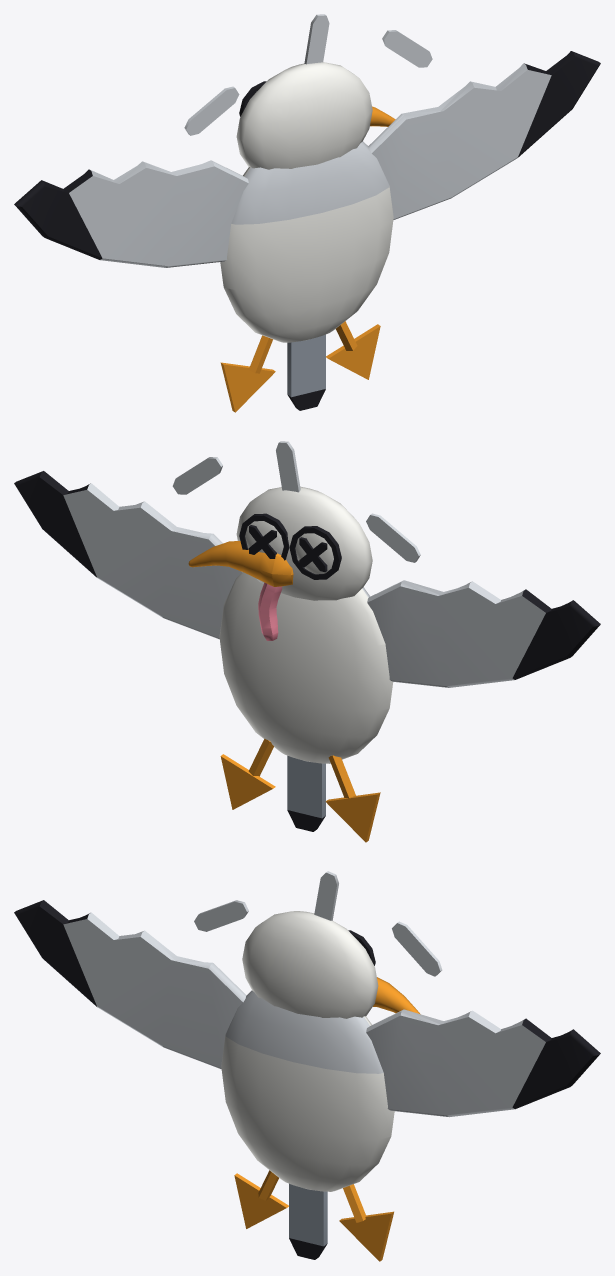
File: PajaroPlaf.fbx
The picture shows the model from 3 angles, top to bottom: view 1: azimuth 30°, elevation 25°; view 2: azimuth 150°, elevation 25°; view 3: azimuth 330°, elevation 25°; orthographic projection.
Parts seen in each view (by area): view 1: PajaroPlaf; view 2: PajaroPlaf; view 3: PajaroPlaf.
Part boxes in pixels (x1=…): PajaroPlaf: x1=14, y1=14, x2=600, y2=412; PajaroPlaf: x1=14, y1=441, x2=600, y2=842; PajaroPlaf: x1=14, y1=871, x2=600, y2=1261.
Bounding box in the file's own units: 8.37 × 5.27 × 0.9591.
Materials: 1 (1 with a texture image).
